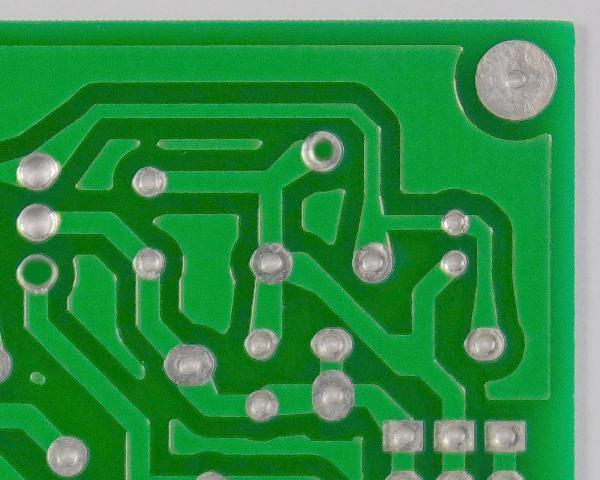missing hole: (299, 125, 349, 177), (11, 252, 66, 295)
